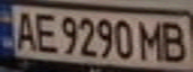0: (112, 17, 139, 61)
2: (75, 14, 96, 57)
9: (93, 16, 118, 60), (57, 12, 81, 56)
A: (9, 7, 39, 52)
B: (157, 18, 190, 63)
E: (30, 10, 60, 54)
M: (136, 18, 166, 62)
